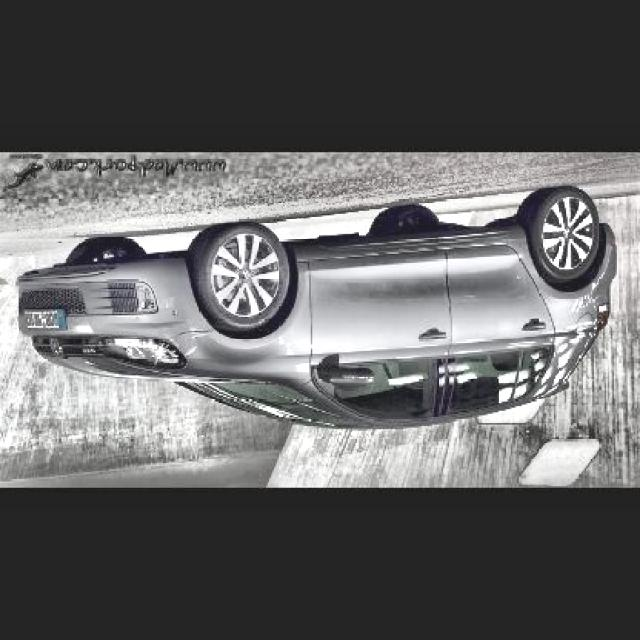black: (0, 212, 619, 437)
